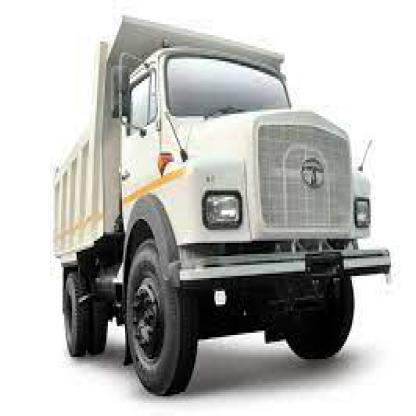tiper: (52, 8, 391, 400)
